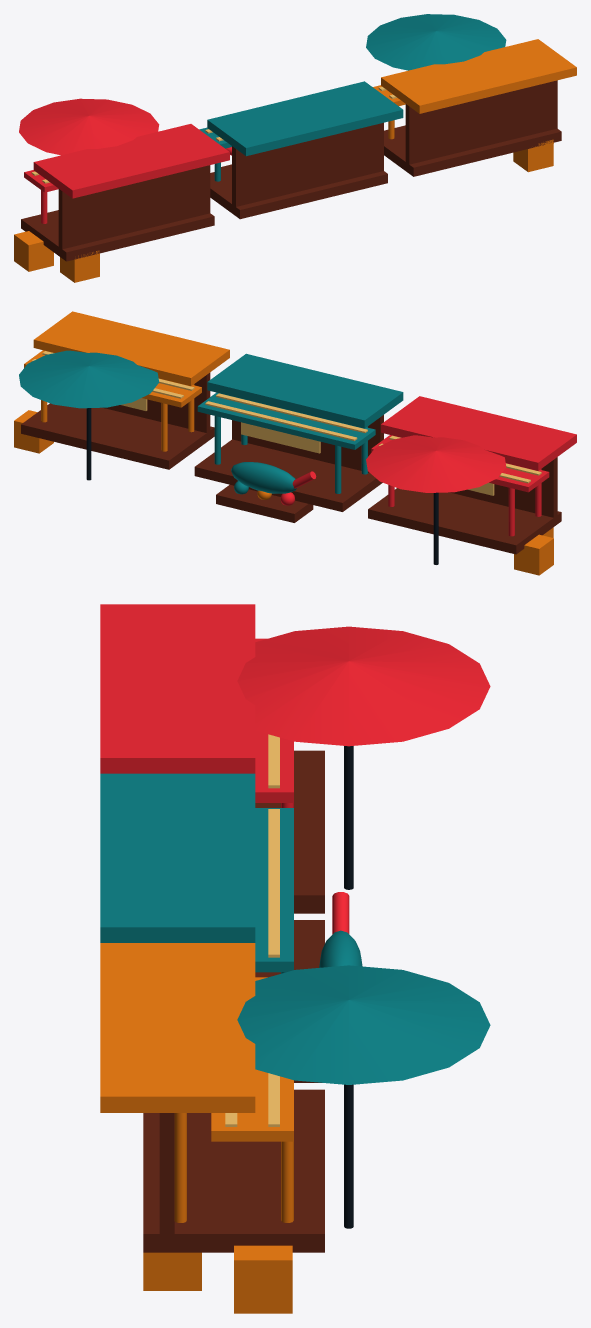
Rendered from market.glb.
3 renders of one model, top to bottom at view 1: azimuth 30°, elevation 25°; view 2: azimuth 150°, elevation 25°; view 3: azimuth 270°, elevation 25°, orthographic. The views are drawn at different scales.
Visible parts, largest first — view 1: wood, coral, teal, gold; view 2: wood, teal, coral, gold, cream, navy; view 3: teal, coral, gold, wood, cream, navy.
Boxes of the visible parts, box(x1,y1,x2,y2) form: wood: box(21, 80, 561, 261); coral: box(19, 98, 231, 223); teal: box(199, 14, 506, 181); gold: box(14, 39, 576, 282); wood: box(21, 372, 561, 554); teal: box(19, 350, 403, 494); coral: box(280, 396, 576, 536); gold: box(14, 311, 553, 575); cream: box(31, 351, 541, 495); navy: box(86, 408, 438, 564); teal: box(100, 773, 490, 1084); coral: box(100, 604, 490, 934); gold: box(100, 943, 293, 1313); wood: box(143, 750, 324, 1252); cream: box(225, 734, 279, 1126); navy: box(344, 746, 353, 1228).
Bounding box in the file's own units: 22.7 × 4.68 × 7.3.
